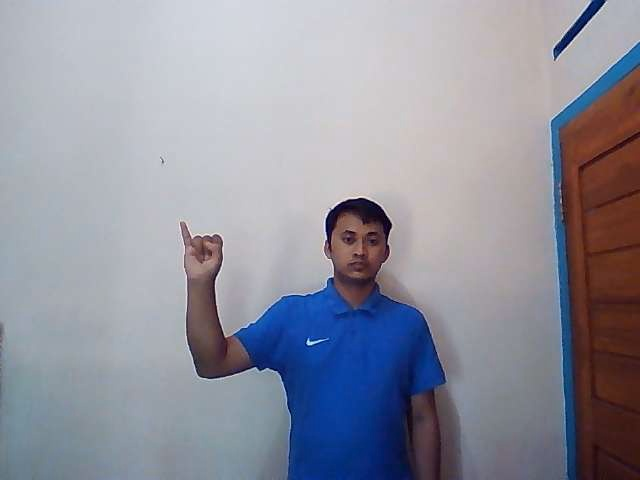I: (178, 219, 224, 283)
